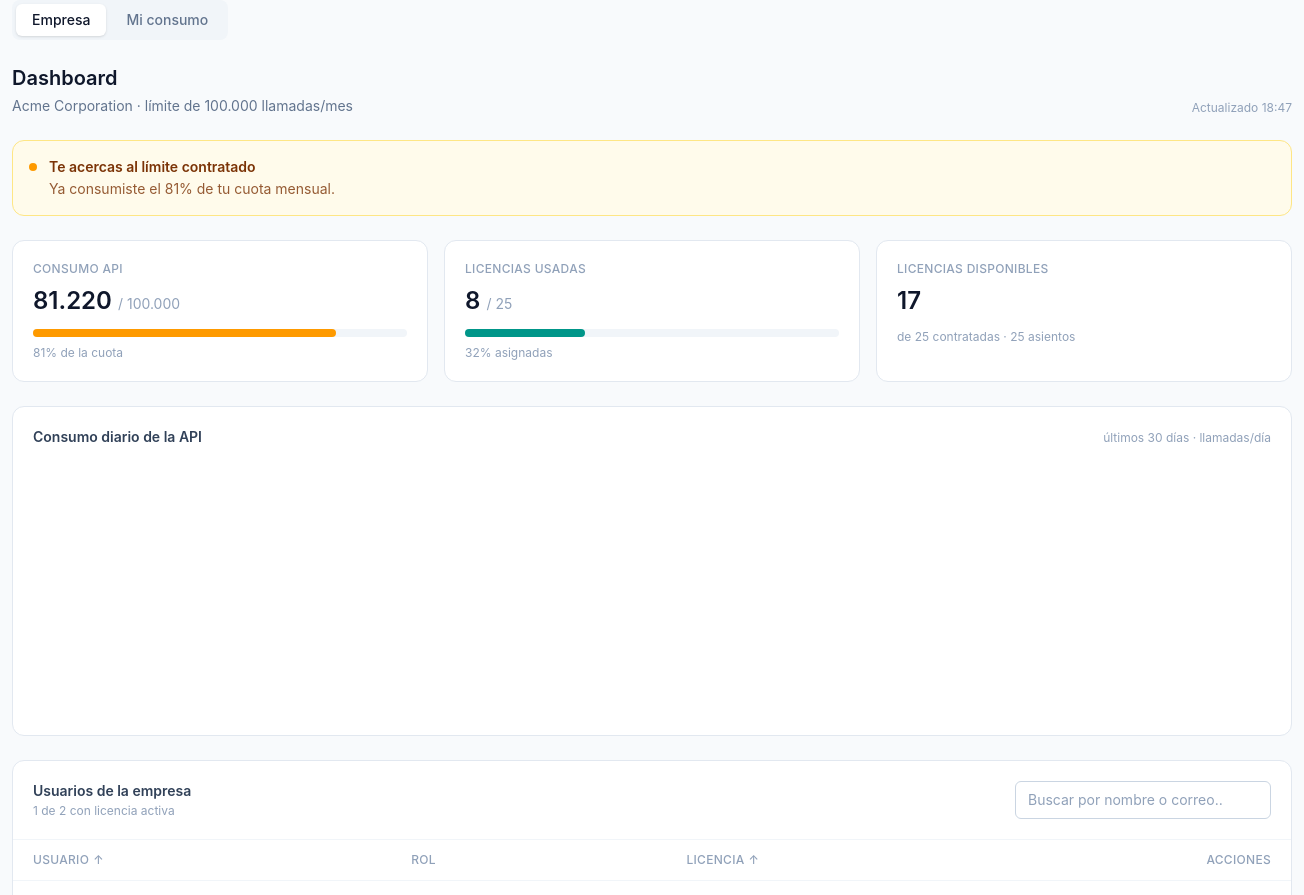
Test: dashboard view › switches admins to the personal consumption tab
Click the tab "Mi consumo" at (167, 20), box [110,4,224,36]
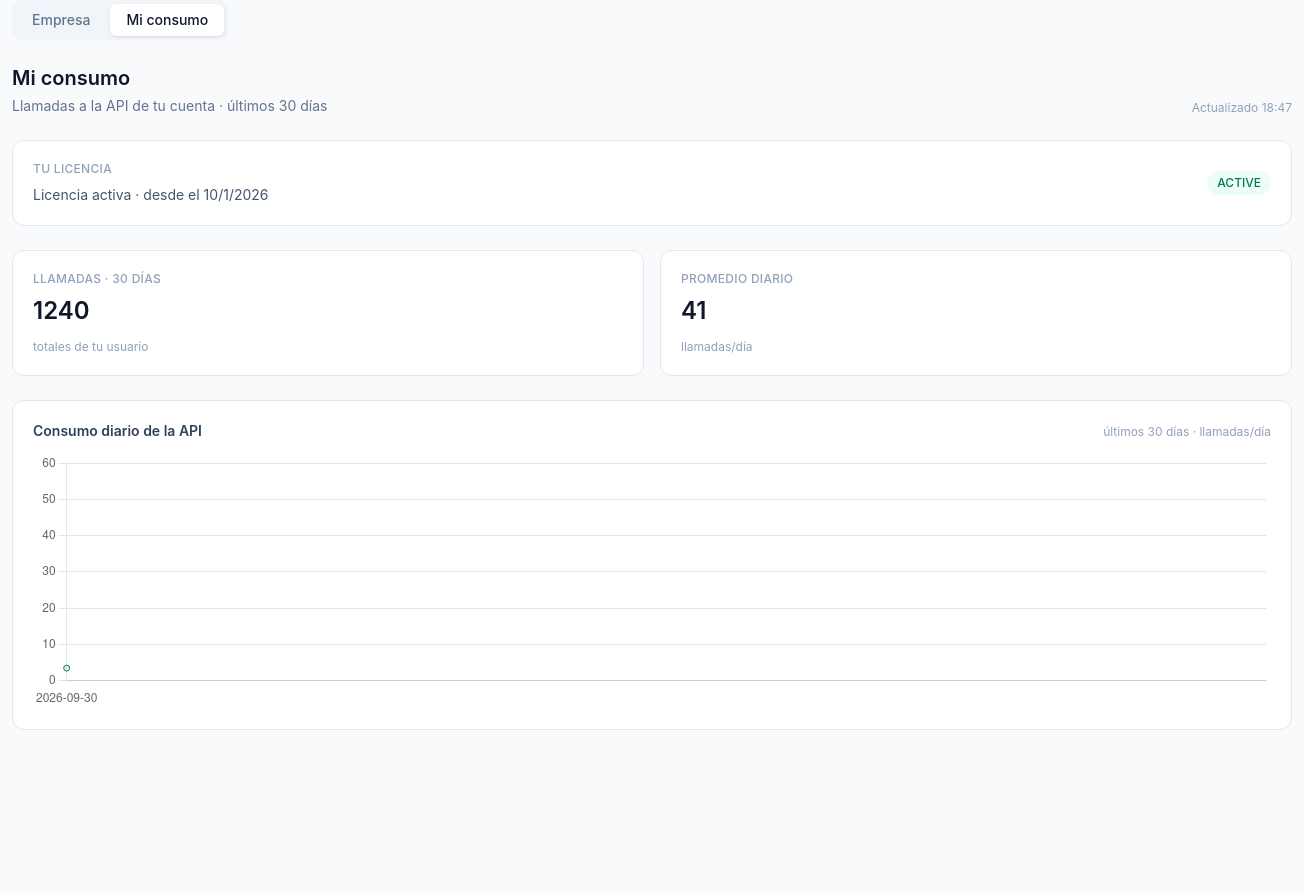
Now the text "Llamadas · 30 días" is shown, box [33,271,161,286]
Now the text "1240" is shown, box [33,296,90,325]
Now the text "Acme Corporation" is gone
